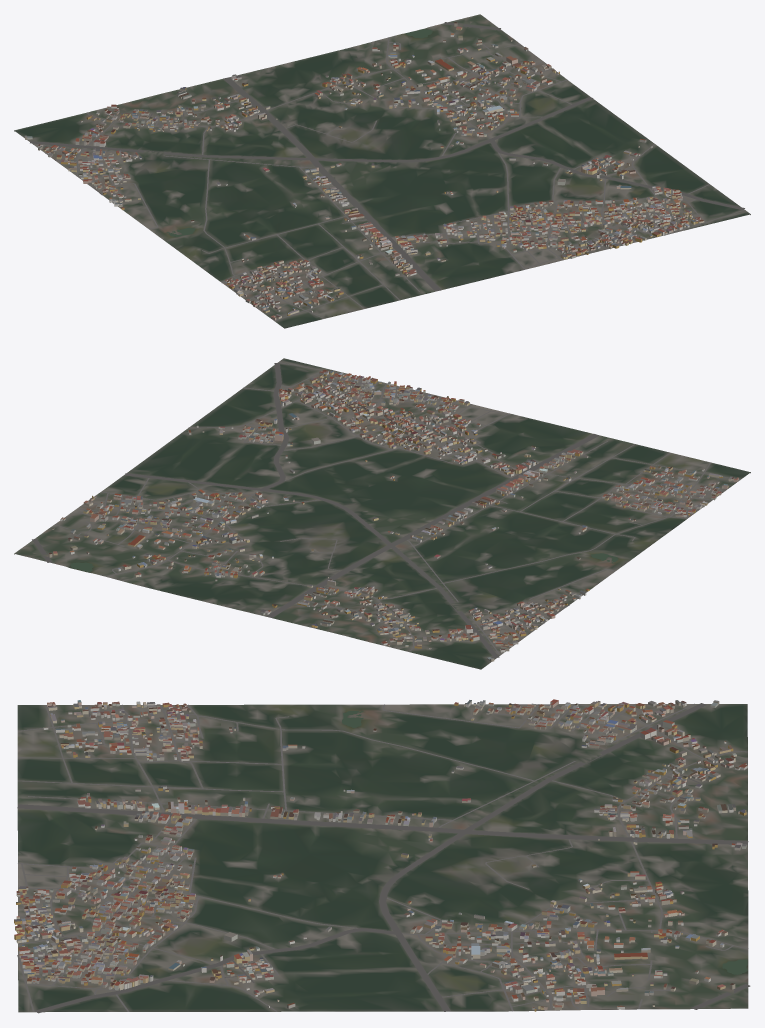
3 renders of one model, top to bottom at view 1: azimuth 30°, elevation 25°; view 2: azimuth 150°, elevation 25°; view 3: azimuth 270°, elevation 25°, orthographic. The views are drawn at different scales.
Visible parts, largest first — view 1: ground, buildings, roads; view 2: ground, buildings, roads; view 3: ground, buildings, roads, water.
Part boxes in pixels (x1,y1,x2,y2): ground: [14, 14, 750, 328]; buildings: [24, 22, 704, 320]; roads: [30, 22, 745, 320]; ground: [14, 358, 750, 669]; buildings: [48, 369, 738, 661]; roads: [32, 362, 740, 657]; ground: [17, 704, 748, 1012]; buildings: [14, 699, 747, 1011]; roads: [17, 703, 750, 1013]; water: [342, 711, 747, 974].
Size of the model in its own units: 1413 by 20.48 by 1415.
